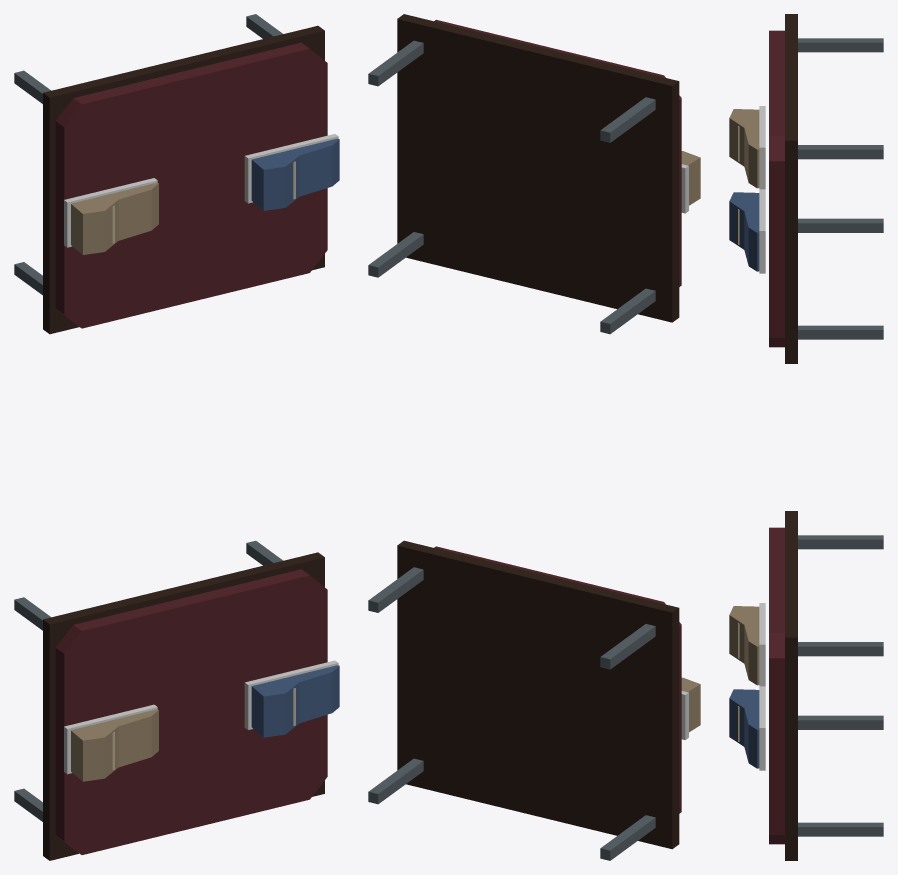
The model's file is SM_BSW_Department_ShoeBench_Long_A.obj.
The picture shows the model from 3 angles, left to right: view 1: azimuth 30°, elevation 25°; view 2: azimuth 150°, elevation 25°; view 3: azimuth 270°, elevation 25°; orthographic projection. The views are drawn at different scales.
Parts seen in each view (by area): view 1: SM_BSW_Department_ShoeBench_Long_A; view 2: SM_BSW_Department_ShoeBench_Long_A; view 3: SM_BSW_Department_ShoeBench_Long_A.
Part boxes in pixels (x1,y1,x2,y2): SM_BSW_Department_ShoeBench_Long_A: (14,14,339,860); SM_BSW_Department_ShoeBench_Long_A: (368,14,700,860); SM_BSW_Department_ShoeBench_Long_A: (729,14,883,860).
Bounding box in the file's own units: 140 × 371 × 72.
